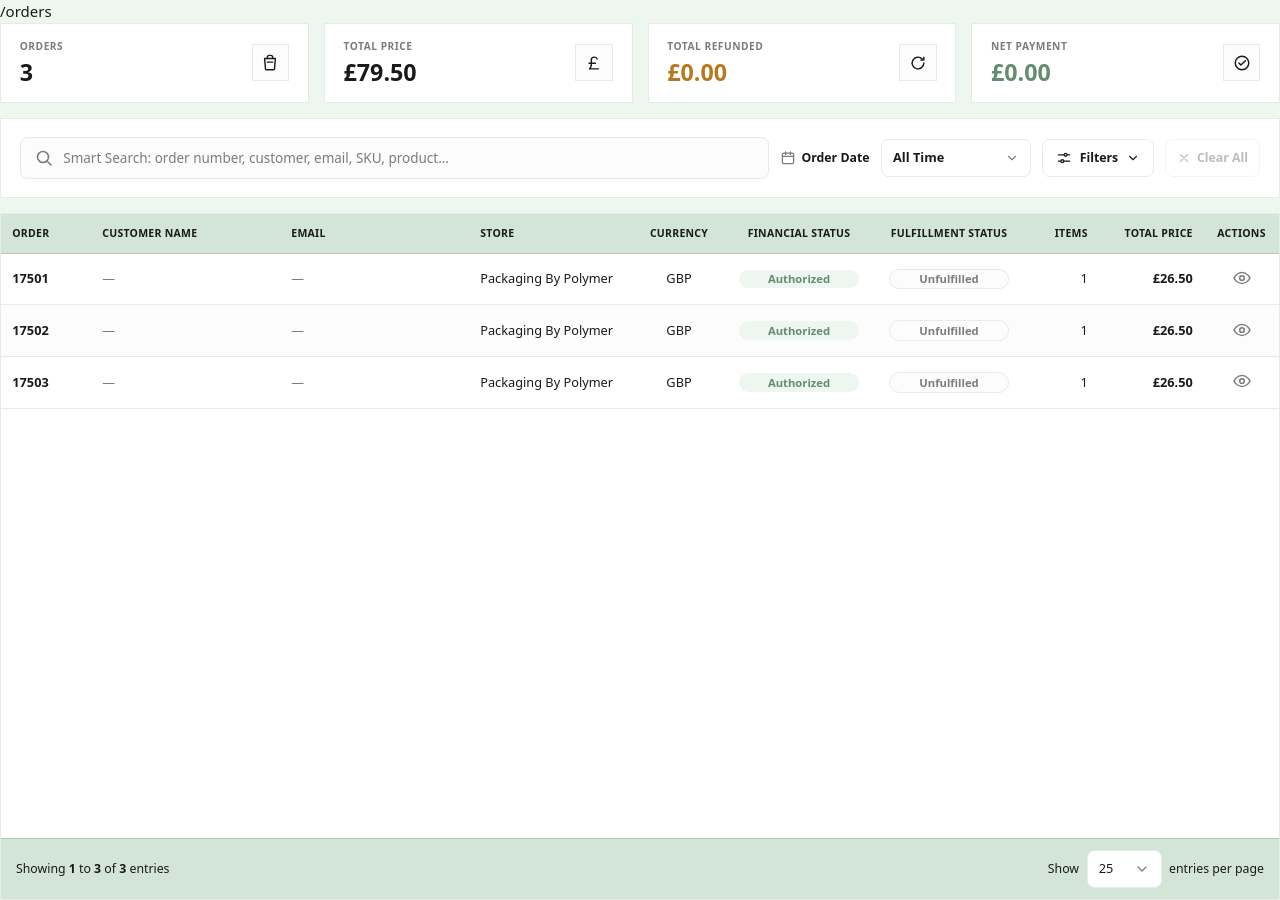
Test: an order’s details page › draws its header from the list row at once, while the details are still loading
The image size is (1280, 900).
Expected: the text "17501" is shown, [12,269,49,287]
Click the button named "View order 17501" at [1242, 278], box [1228,265,1255,291]
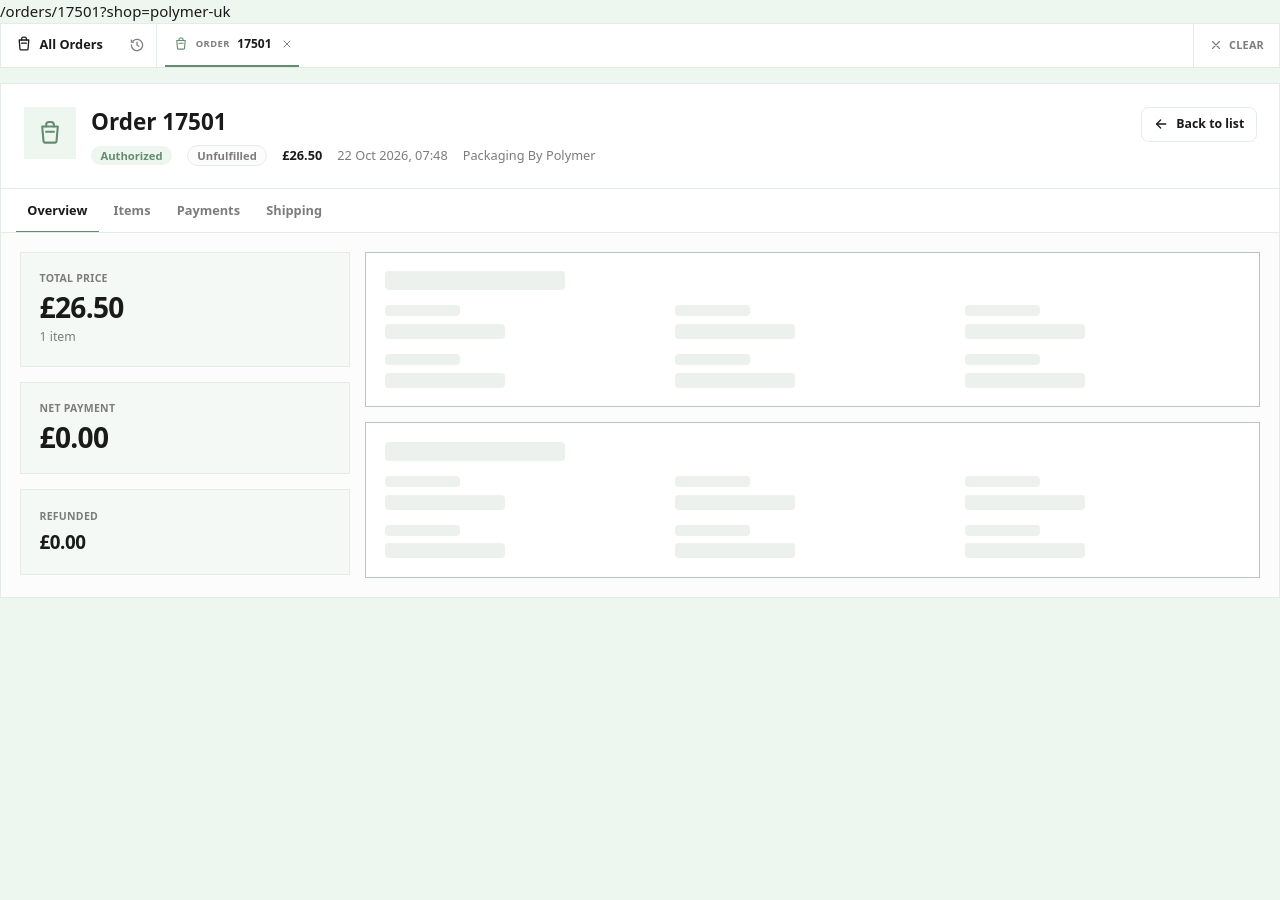
Expected: the text "Authorized" is shown, [91,146,172,165]
Expected: the heading "Order 17501" is shown, [91,106,227,137]
